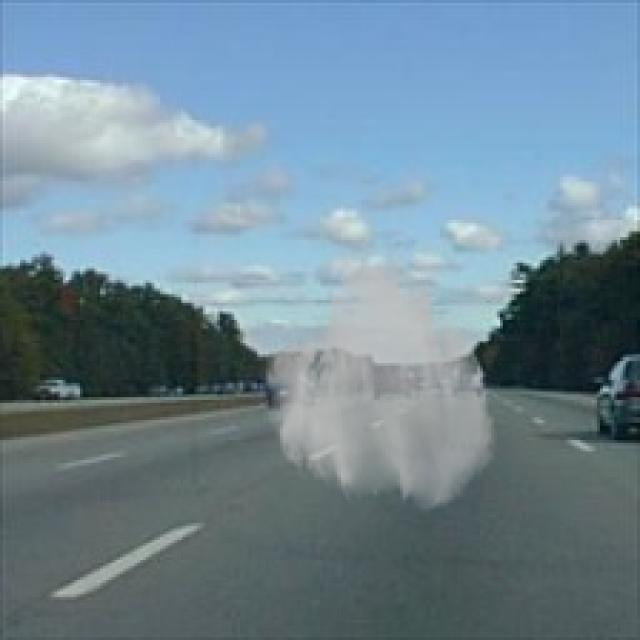smoke: (260, 246, 497, 514)
